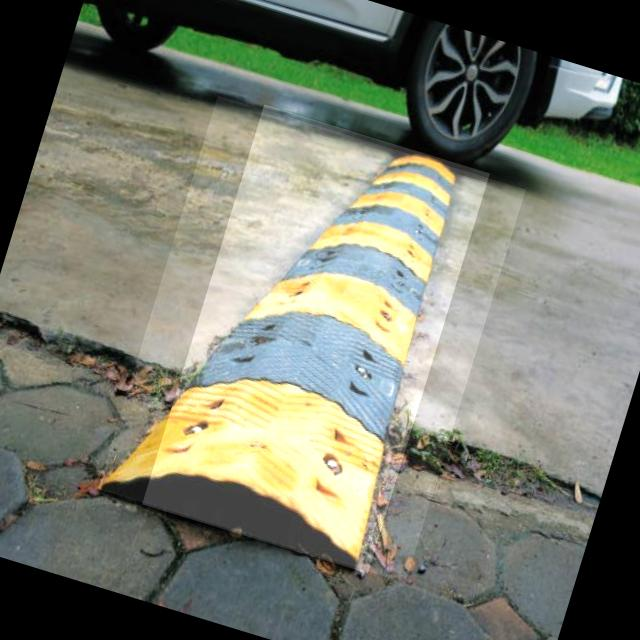bump: (142, 104, 490, 573)
